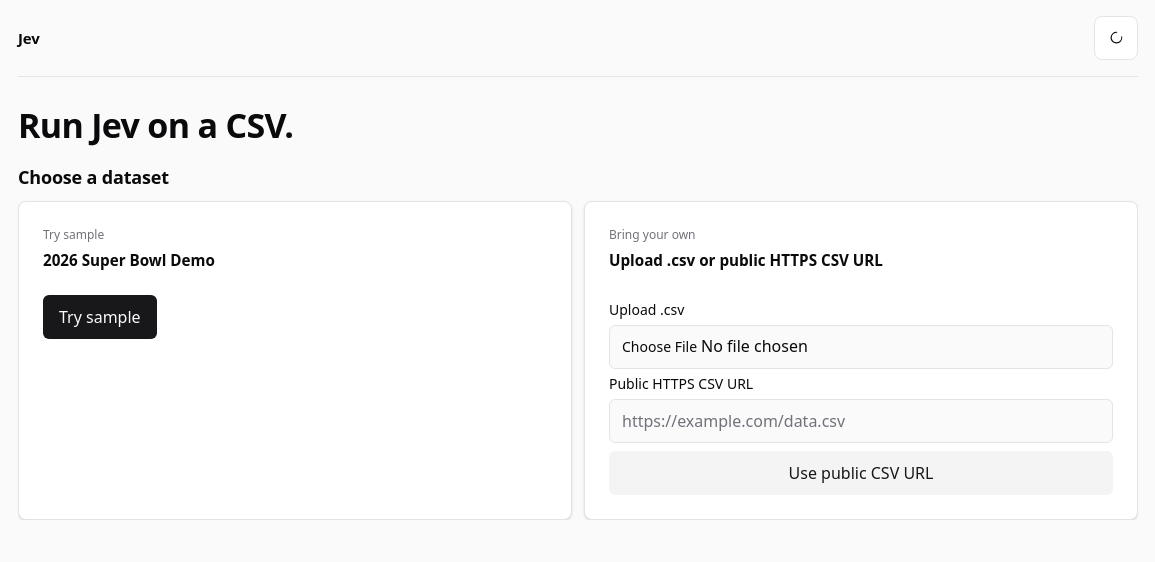
Test: Jev playground flow › validates an empty public CSV URL next to the field
Click the button "Use public CSV URL".
click(861, 473)  # box x1=609 y1=451 x2=1113 y2=495
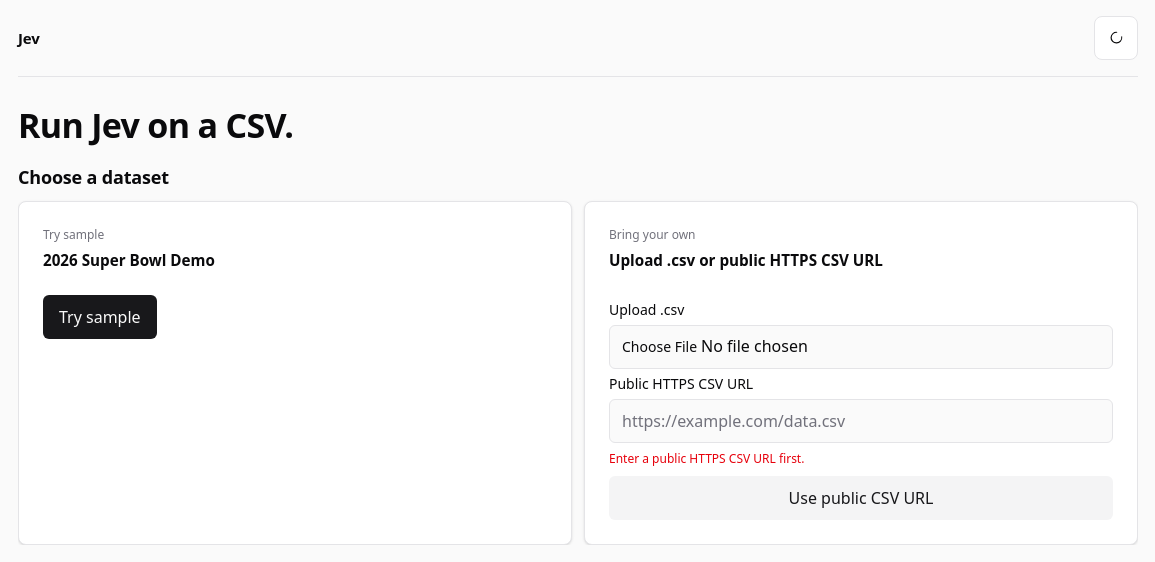
Result: the message shows "Enter a public HTTPS CSV URL first" at x1=609 y1=450 x2=804 y2=467
